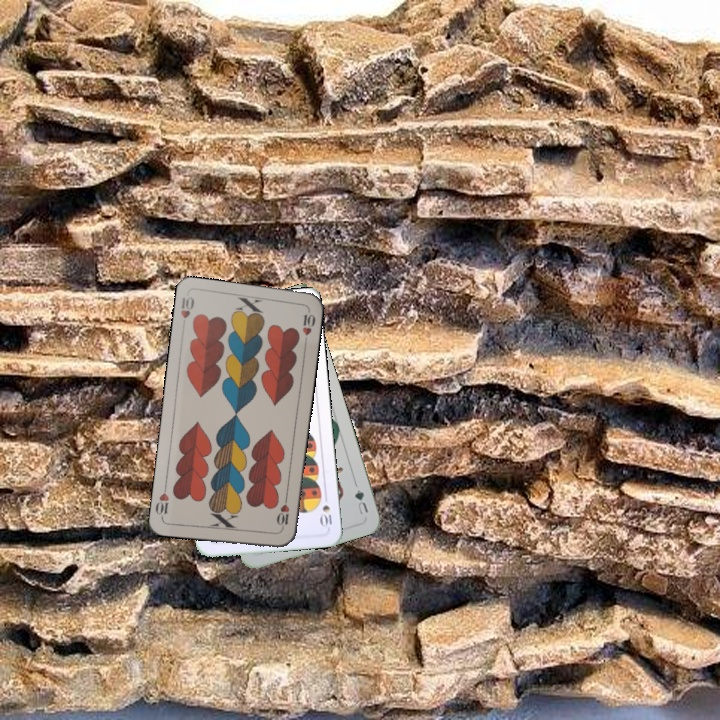GU: (350, 485, 371, 517)
H10: (273, 493, 292, 534), (177, 292, 197, 321)
S10: (317, 490, 334, 529)
